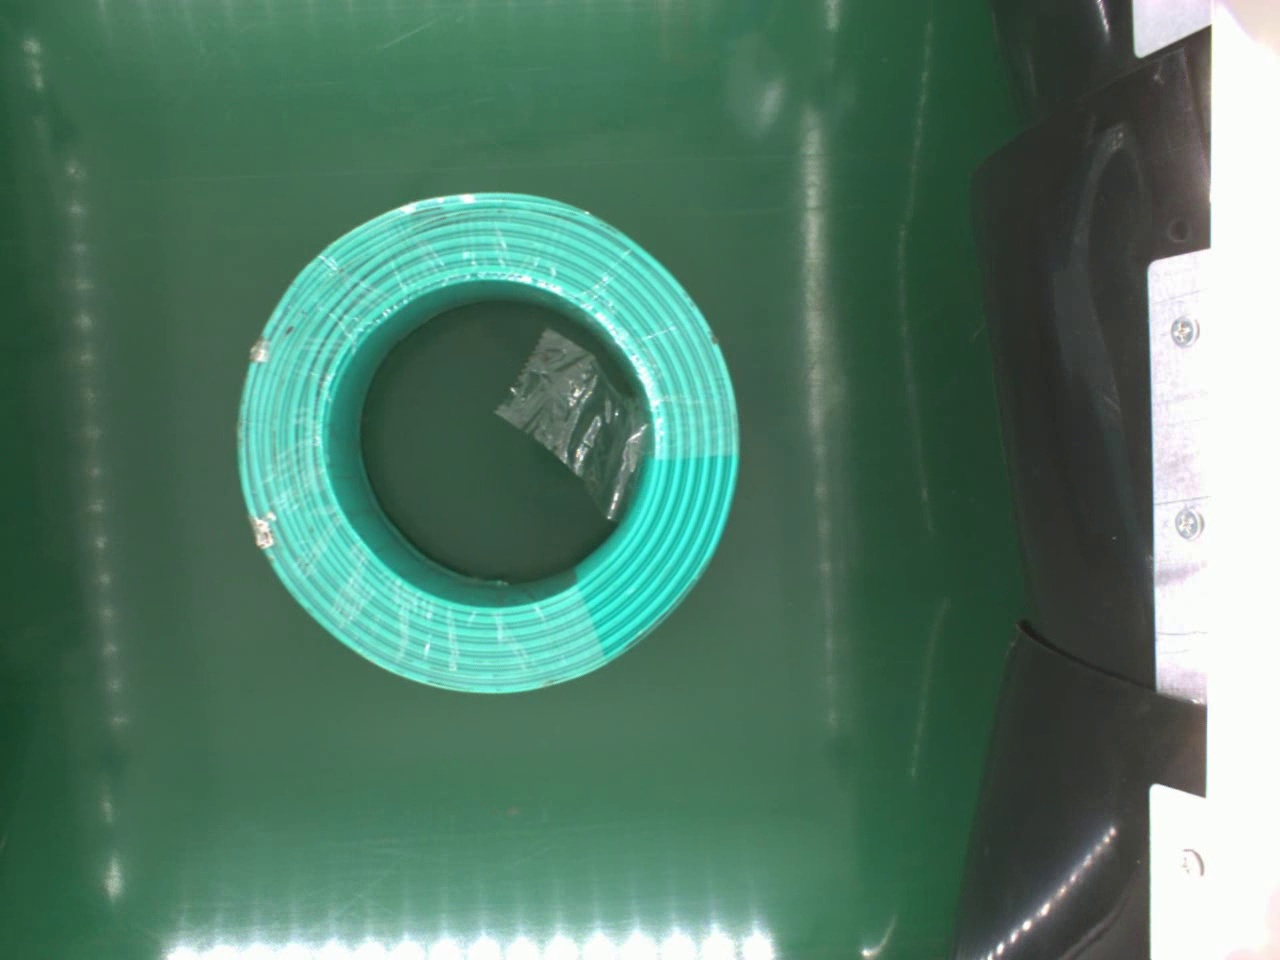green: (233, 188, 746, 691)
